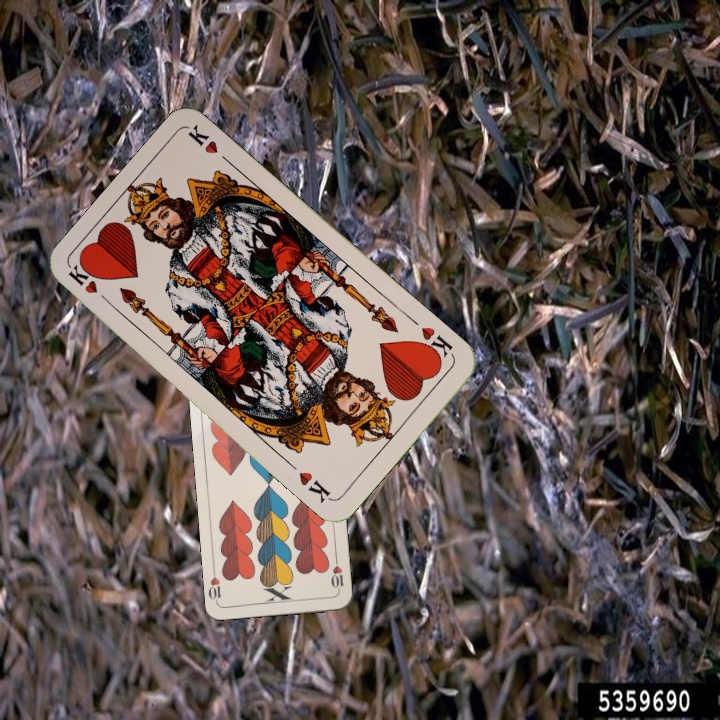H10: (327, 554, 346, 594)
HK: (64, 261, 115, 309), (413, 322, 456, 365)
